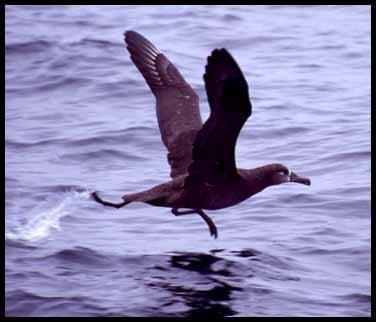bird: (91, 29, 314, 236)
